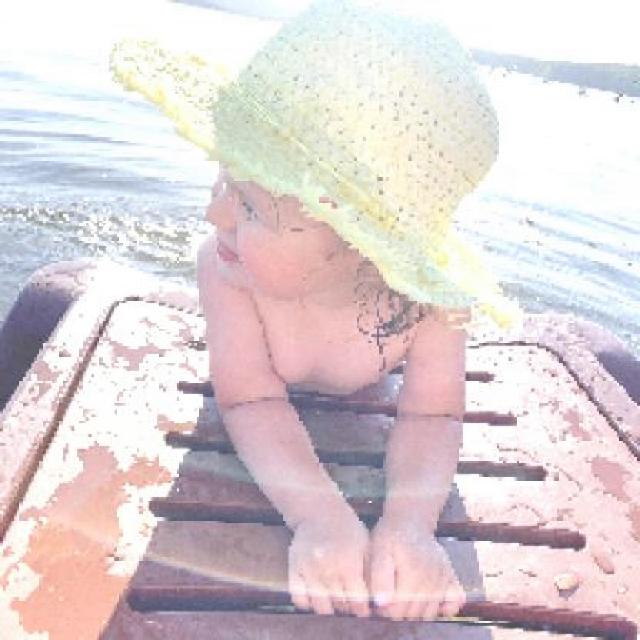child: (108, 2, 523, 624)
